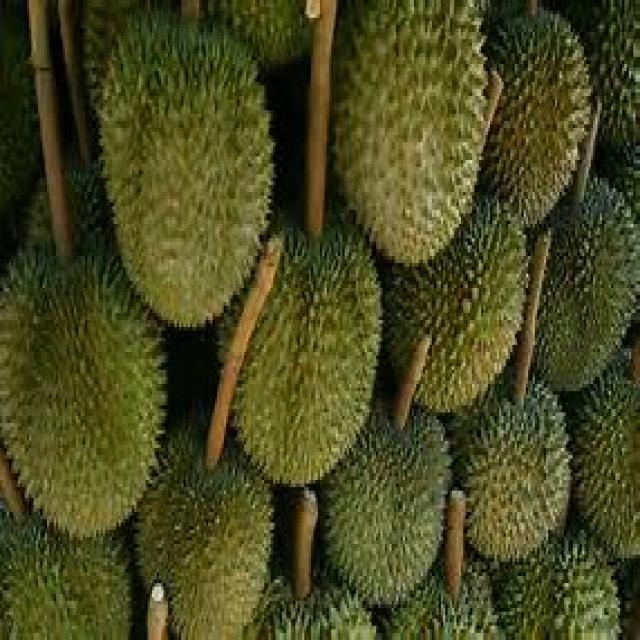immature: (101, 10, 275, 340), (0, 238, 168, 545), (216, 206, 385, 492), (331, 0, 486, 274), (132, 398, 275, 640), (383, 194, 531, 416), (316, 396, 454, 616), (473, 0, 592, 232), (525, 178, 640, 398), (449, 375, 574, 575)
